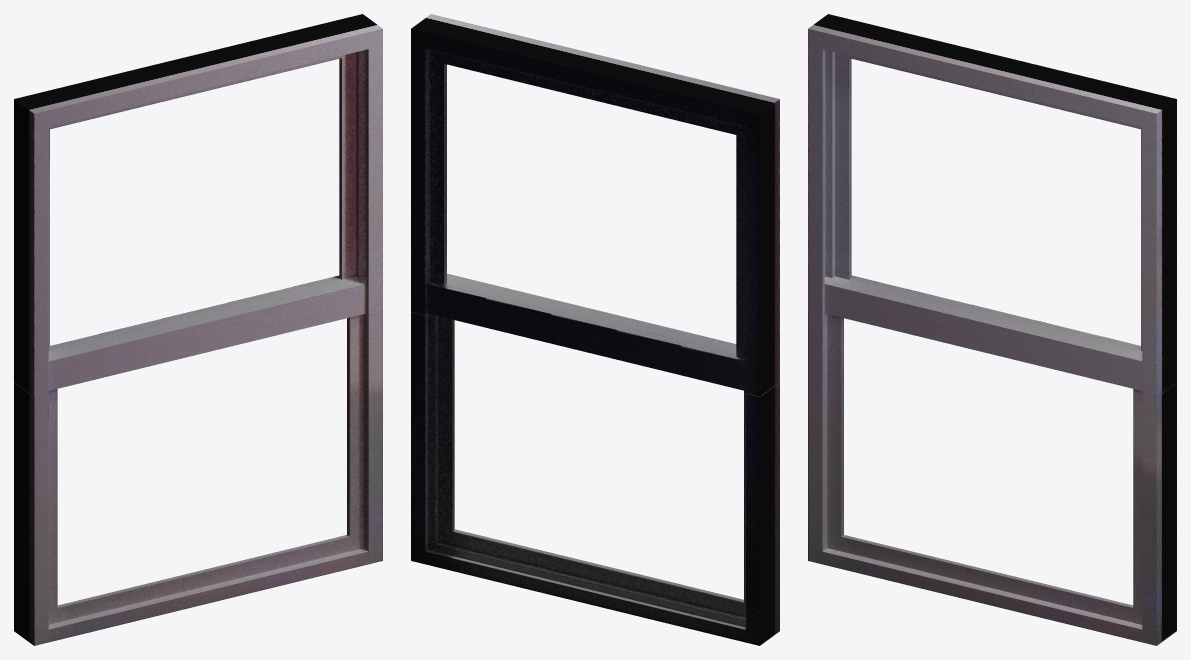
The model's file is window_left.glb.
3 renders of one model, left to right at view 1: azimuth 30°, elevation 25°; view 2: azimuth 150°, elevation 25°; view 3: azimuth 330°, elevation 25°, orthographic.
Parts seen in each view (by area): view 1: window_left; view 2: window_left; view 3: window_left.
Boxes of the visible parts, x1=… form: window_left: x1=14, y1=14, x2=382, y2=645; window_left: x1=411, y1=14, x2=779, y2=645; window_left: x1=808, y1=14, x2=1176, y2=645.
Bounding box in the file's own units: 7.2 × 10.5 × 0.72.
Materials: 1 (1 with a texture image).
